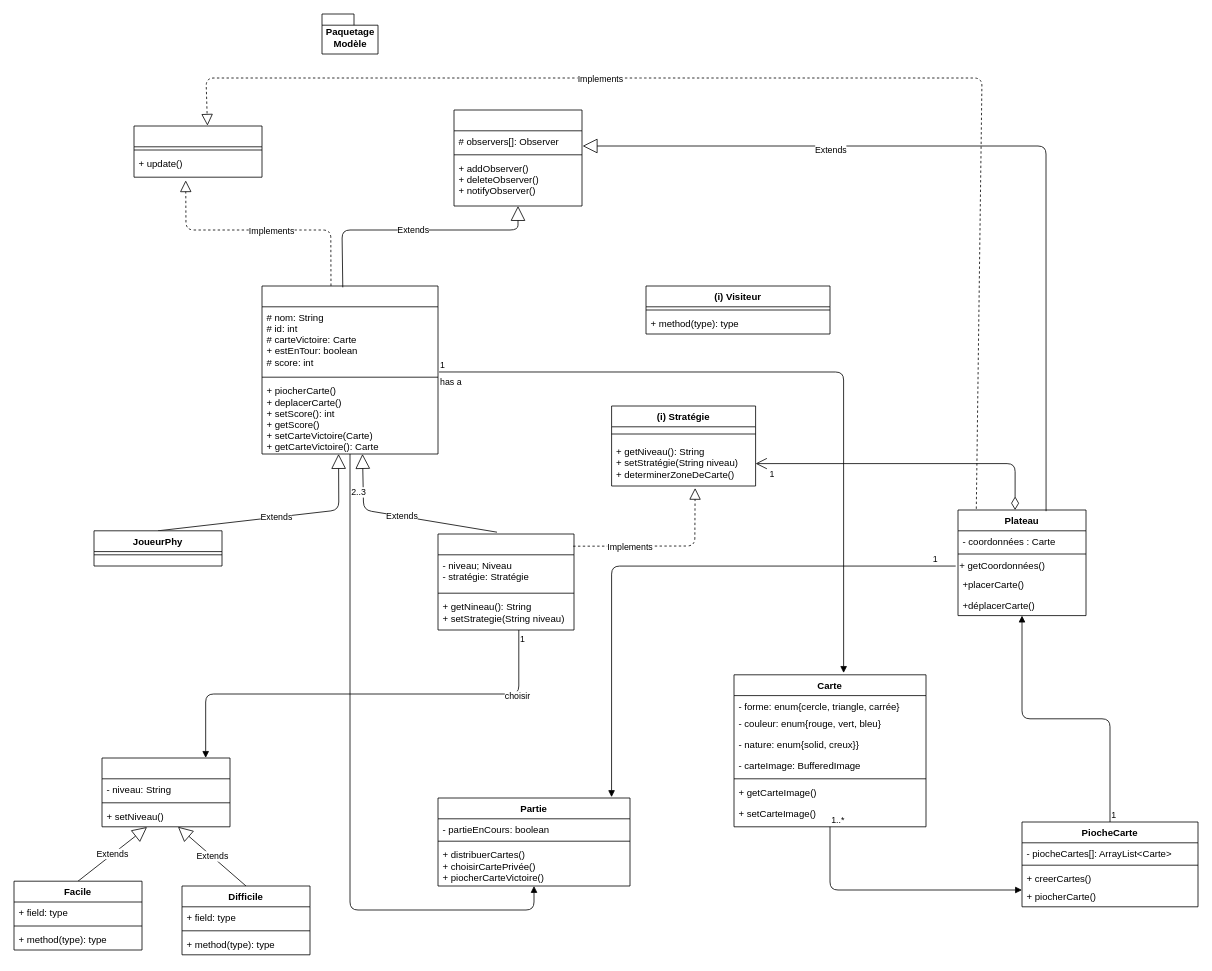
This 1212x971 diagram has some shape labels left out. The box of each missing label's shape, as (x1, y1, x2, y2) in pixels:
(i) Observer: (133, 125, 262, 177)
Joueur: (261, 285, 438, 454)
JoueurVir: (437, 533, 574, 630)
Nineau: (101, 757, 230, 827)
Observable: (453, 109, 582, 206)
